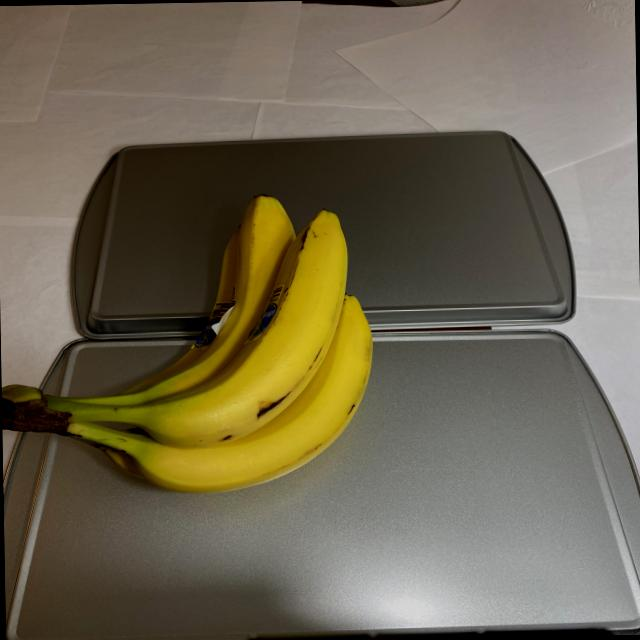banana: (2, 190, 382, 500)
